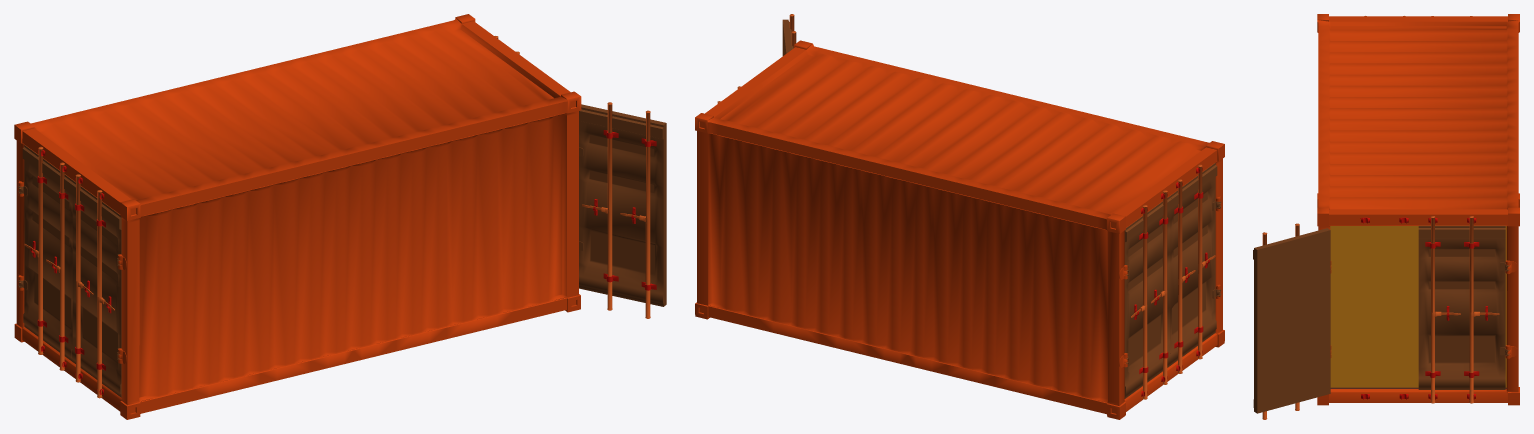
Rendered from shipping-container.dae.
The picture shows the model from 3 angles, left to right: view 1: azimuth 30°, elevation 25°; view 2: azimuth 150°, elevation 25°; view 3: azimuth 270°, elevation 25°; orthographic projection. The views are drawn at different scales.
Visible parts, largest first — view 1: CamsAndKeepers_low; view 2: CamsAndKeepers_low; view 3: CamsAndKeepers_low.
Boxes of the visible parts, x1,y1,x2,y2 form: CamsAndKeepers_low: (14, 14, 666, 419); CamsAndKeepers_low: (695, 14, 1224, 419); CamsAndKeepers_low: (1253, 14, 1519, 419).
Bounding box in the file's own units: 2 × 0.7996 × 1.01.
